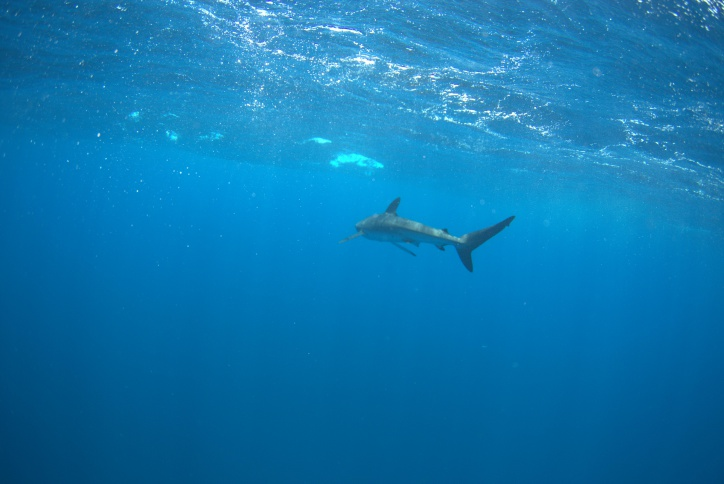Sedoso: (324, 187, 523, 280)
